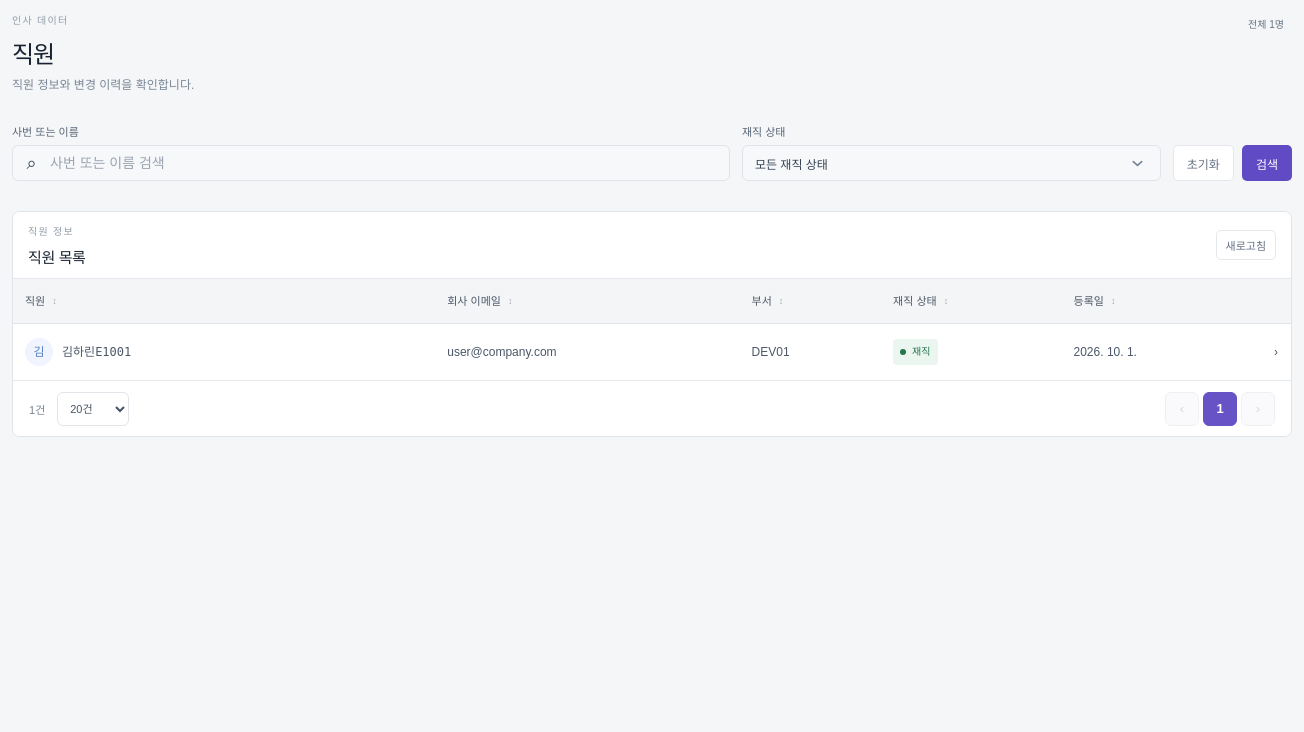
Test: employee list and detail routes › opens detail by row click and shows expandable before/after audit history
Click the row named "김하린 E1001".
click(79, 352)  # box [13,324,1291,380]
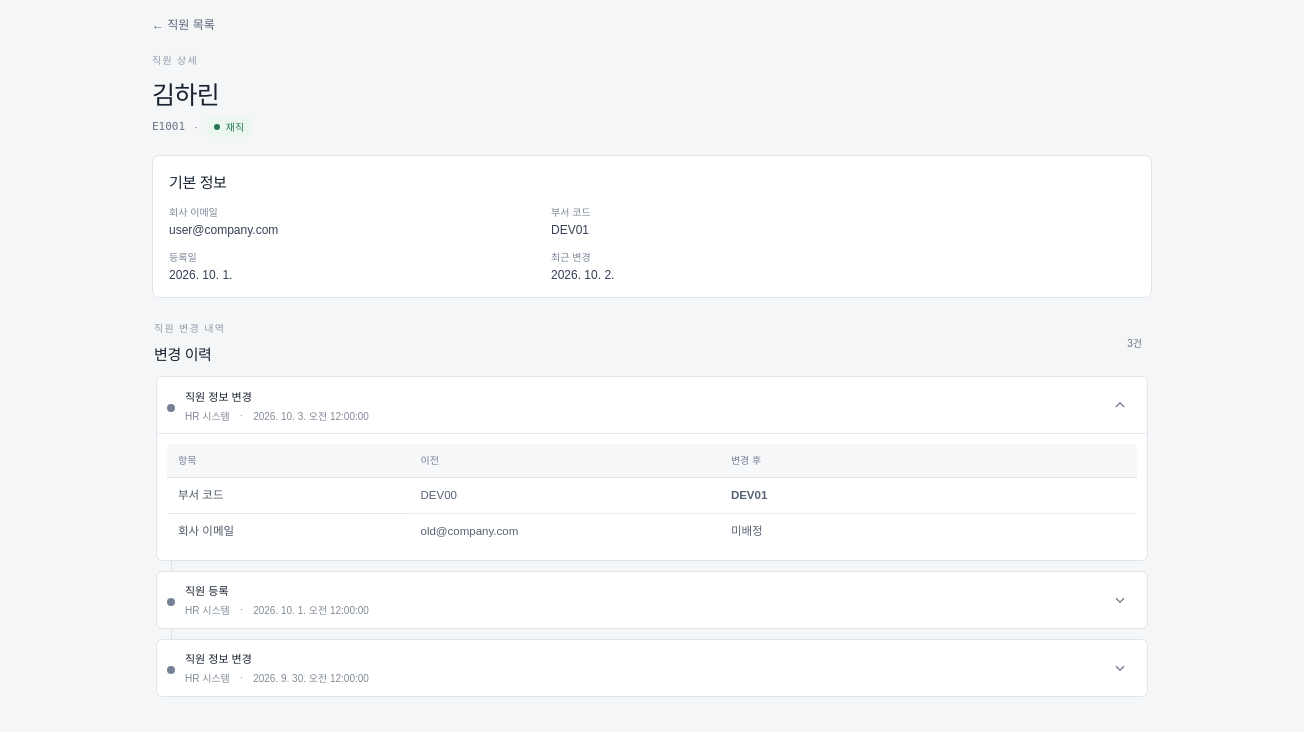
Now the heading "김하린" is shown, box [152,81,219,109]
Now the heading "기본 정보" is shown, box [169,174,226,191]
Now the element with class "audit-entry" shows "직원 정보 변경", box [185,390,252,402]
